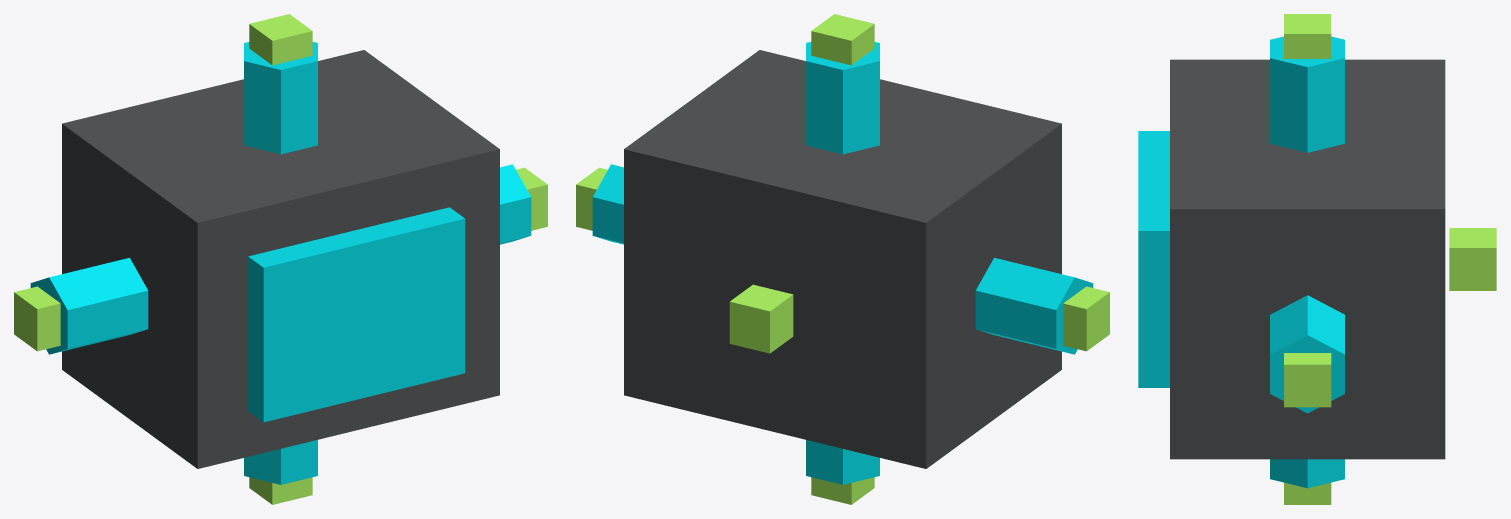
Rendered from rcs_pod_4way_mk1.glb.
3 renders of one model, left to right at view 1: azimuth 30°, elevation 25°; view 2: azimuth 150°, elevation 25°; view 3: azimuth 270°, elevation 25°, orthographic.
Parts seen in each view (by area): view 1: GEO_RCS_Pod_Body, GEO_RCS_Pod_Cyan_Top, GEO_RCS_Nozzle_Left, GEO_RCS_Nozzle_Forward, VIS_PART_RCS_Pod_4Way_Mk1_RCS_NOZZLE_LEFT, VIS_PART_RCS_Pod_4Way_Mk1_RCS_NOZZLE_FORWARD, GEO_RCS_Nozzle_Back, GEO_RCS_Nozzle_Right, VIS_PART_RCS_Pod_4Way_Mk1_RCS_NOZZLE_BACK, VIS_PART_RCS_Pod_4Way_Mk1_RCS_NOZZLE_RIGHT; view 2: GEO_RCS_Pod_Body, GEO_RCS_Nozzle_Left, GEO_RCS_Nozzle_Forward, VIS_PART_RCS_Pod_4Way_Mk1_CONN_MOUNT, VIS_PART_RCS_Pod_4Way_Mk1_RCS_NOZZLE_LEFT, VIS_PART_RCS_Pod_4Way_Mk1_RCS_NOZZLE_FORWARD, GEO_RCS_Nozzle_Back, GEO_RCS_Nozzle_Right, VIS_PART_RCS_Pod_4Way_Mk1_RCS_NOZZLE_BACK, VIS_PART_RCS_Pod_4Way_Mk1_RCS_NOZZLE_RIGHT; view 3: GEO_RCS_Pod_Body, GEO_RCS_Pod_Cyan_Top, GEO_RCS_Nozzle_Forward, GEO_RCS_Nozzle_Right, VIS_PART_RCS_Pod_4Way_Mk1_CONN_MOUNT, VIS_PART_RCS_Pod_4Way_Mk1_RCS_NOZZLE_RIGHT, VIS_PART_RCS_Pod_4Way_Mk1_RCS_NOZZLE_FORWARD, GEO_RCS_Nozzle_Back, VIS_PART_RCS_Pod_4Way_Mk1_RCS_NOZZLE_BACK.
Part boxes in pixels (x1,y1,x2,y2): GEO_RCS_Pod_Body: [62, 50, 499, 468]; GEO_RCS_Pod_Cyan_Top: [248, 207, 465, 422]; GEO_RCS_Nozzle_Left: [30, 257, 148, 354]; GEO_RCS_Nozzle_Forward: [244, 42, 317, 154]; VIS_PART_RCS_Pod_4Way_Mk1_RCS_NOZZLE_LEFT: [14, 286, 60, 351]; VIS_PART_RCS_Pod_4Way_Mk1_RCS_NOZZLE_FORWARD: [249, 14, 312, 65]; GEO_RCS_Nozzle_Back: [244, 440, 317, 484]; GEO_RCS_Nozzle_Right: [500, 164, 531, 244]; VIS_PART_RCS_Pod_4Way_Mk1_RCS_NOZZLE_BACK: [249, 477, 312, 504]; VIS_PART_RCS_Pod_4Way_Mk1_RCS_NOZZLE_RIGHT: [516, 167, 547, 230]; GEO_RCS_Pod_Body: [624, 50, 1061, 468]; GEO_RCS_Nozzle_Left: [975, 257, 1093, 354]; GEO_RCS_Nozzle_Forward: [806, 42, 879, 154]; VIS_PART_RCS_Pod_4Way_Mk1_CONN_MOUNT: [729, 284, 793, 353]; VIS_PART_RCS_Pod_4Way_Mk1_RCS_NOZZLE_LEFT: [1063, 286, 1109, 351]; VIS_PART_RCS_Pod_4Way_Mk1_RCS_NOZZLE_FORWARD: [811, 14, 874, 65]; GEO_RCS_Nozzle_Back: [806, 440, 879, 484]; GEO_RCS_Nozzle_Right: [592, 164, 623, 244]; VIS_PART_RCS_Pod_4Way_Mk1_RCS_NOZZLE_BACK: [811, 477, 874, 504]; VIS_PART_RCS_Pod_4Way_Mk1_RCS_NOZZLE_RIGHT: [576, 167, 607, 230]; GEO_RCS_Pod_Body: [1170, 59, 1445, 459]; GEO_RCS_Pod_Cyan_Top: [1138, 131, 1169, 387]; GEO_RCS_Nozzle_Forward: [1270, 36, 1344, 152]; GEO_RCS_Nozzle_Right: [1270, 295, 1344, 413]; VIS_PART_RCS_Pod_4Way_Mk1_CONN_MOUNT: [1449, 228, 1496, 290]; VIS_PART_RCS_Pod_4Way_Mk1_RCS_NOZZLE_RIGHT: [1284, 353, 1331, 407]; VIS_PART_RCS_Pod_4Way_Mk1_RCS_NOZZLE_FORWARD: [1284, 14, 1331, 58]; GEO_RCS_Nozzle_Back: [1270, 459, 1344, 488]; VIS_PART_RCS_Pod_4Way_Mk1_RCS_NOZZLE_BACK: [1284, 482, 1331, 504].
Bounding box in the file's own units: 0.76 × 0.66 × 0.455.
